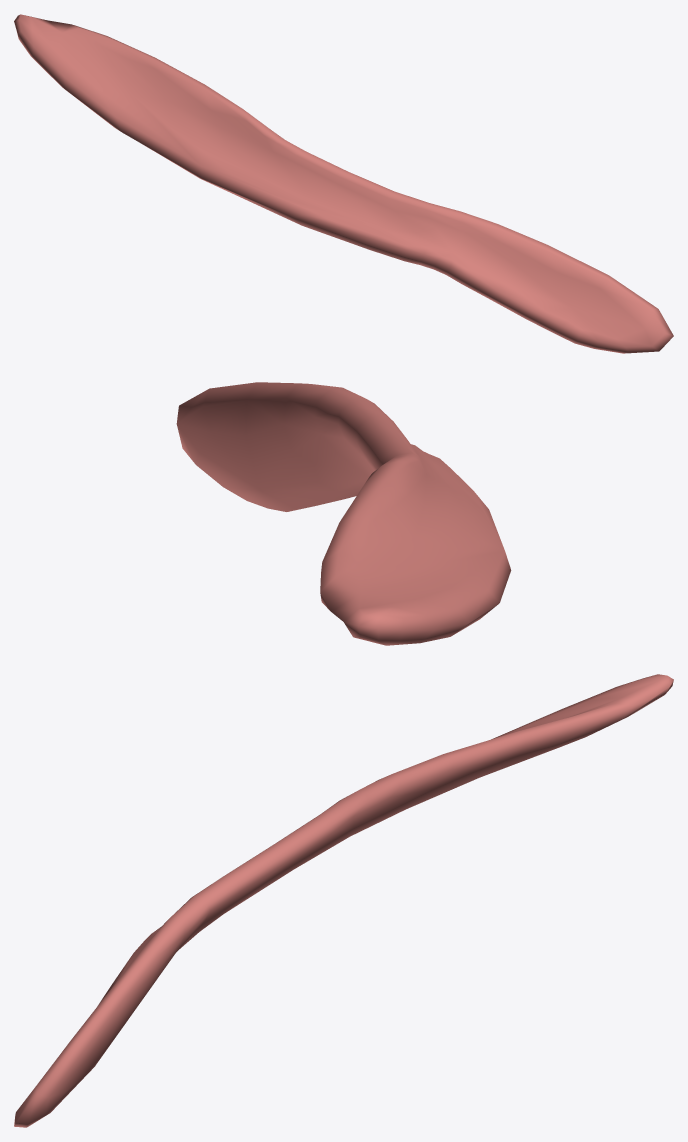
The picture shows the model from 3 angles, top to bottom: view 1: azimuth 30°, elevation 25°; view 2: azimuth 150°, elevation 25°; view 3: azimuth 270°, elevation 25°; orthographic projection. The views are drawn at different scales.
Parts seen in each view (by area): view 1: ZA_a994f1a4a3c6d5e0; view 2: ZA_a994f1a4a3c6d5e0; view 3: ZA_a994f1a4a3c6d5e0.
Boxes of the visible parts, left/top/right/bottom form: ZA_a994f1a4a3c6d5e0: left=14, top=14, right=673, bottom=353; ZA_a994f1a4a3c6d5e0: left=176, top=382, right=511, bottom=645; ZA_a994f1a4a3c6d5e0: left=14, top=674, right=673, bottom=1127.
Size of the model in its own units: 0.00978 by 0.00537 by 0.0126.
